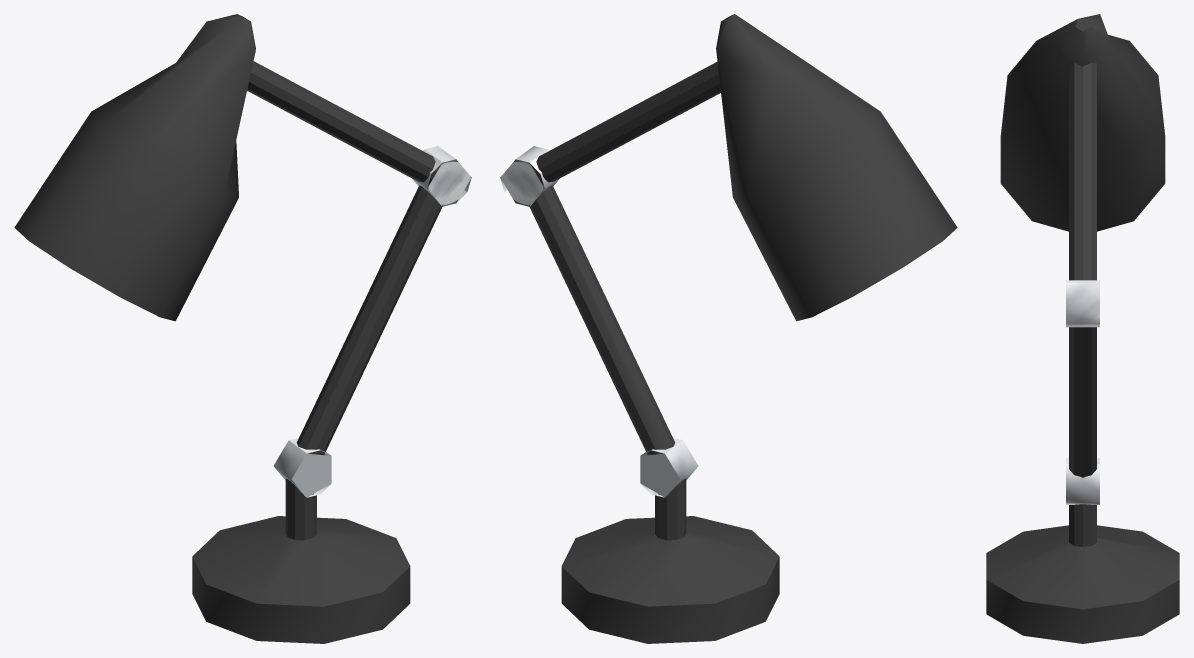
File: Lamp_lod3.fbx
The picture shows the model from 3 angles, left to right: view 1: azimuth 30°, elevation 25°; view 2: azimuth 150°, elevation 25°; view 3: azimuth 270°, elevation 25°; orthographic projection. The views are drawn at different scales.
Parts seen in each view (by area): view 1: polySurface8, polySurface4, polySurface7, polySurface6, polySurface5; view 2: polySurface8, polySurface4, polySurface7, polySurface6, polySurface5; view 3: polySurface4, polySurface8, polySurface7, polySurface5, polySurface6.
Boxes of the visible parts, x1,y1,x2,y2 form: polySurface8: (14, 14, 255, 321); polySurface4: (192, 185, 442, 643); polySurface7: (247, 61, 441, 185); polySurface6: (273, 438, 331, 497); polySurface5: (412, 146, 471, 206); polySurface8: (716, 14, 957, 321); polySurface4: (529, 185, 779, 643); polySurface7: (530, 61, 720, 185); polySurface6: (640, 438, 698, 497); polySurface5: (500, 146, 559, 206); polySurface4: (986, 327, 1179, 643); polySurface8: (1000, 14, 1165, 231); polySurface7: (1069, 62, 1096, 280); polySurface5: (1066, 280, 1099, 327); polySurface6: (1066, 458, 1099, 504).
Bounding box in the file's own units: 2.7 × 3.56 × 1.13.
